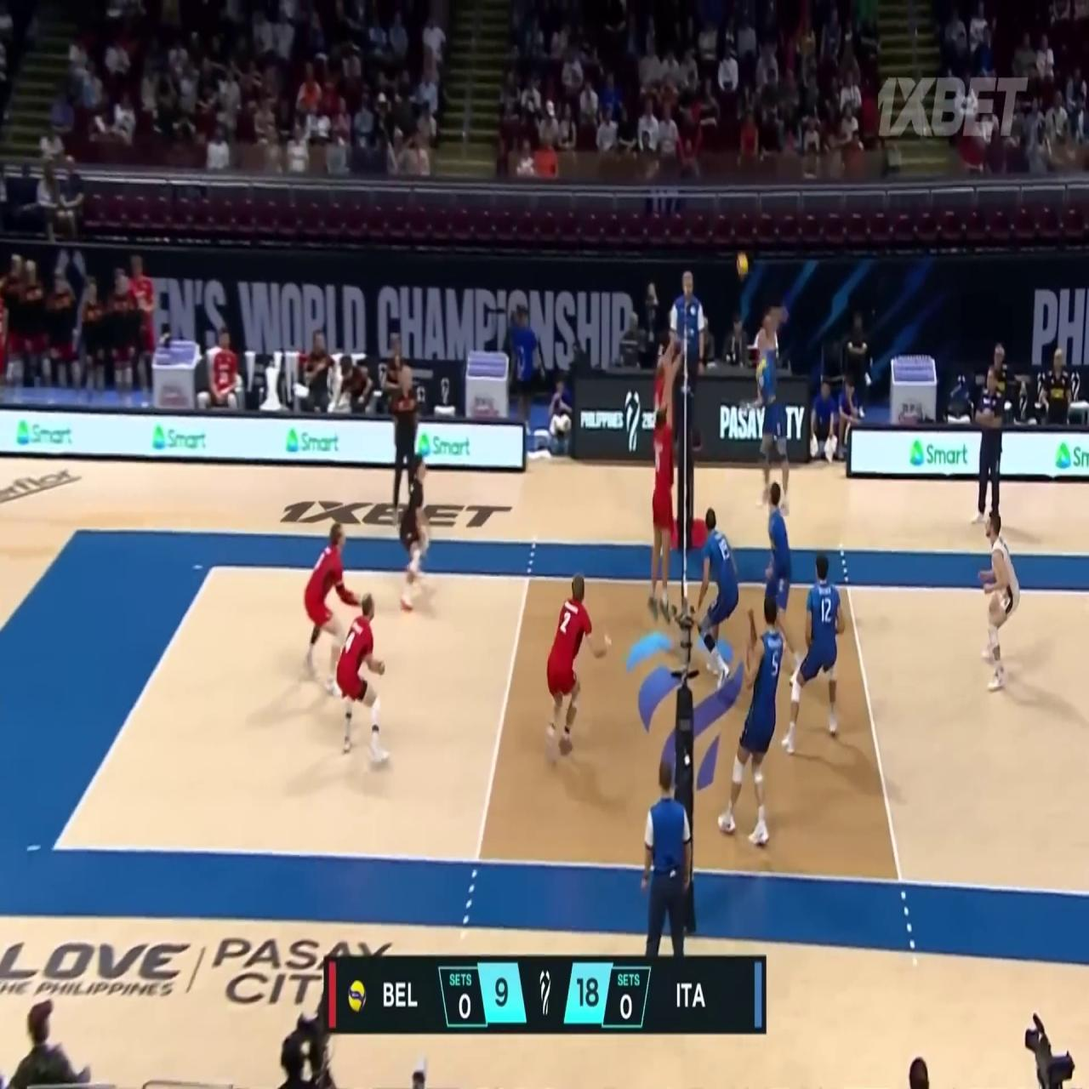ball: (736, 252, 750, 277)
